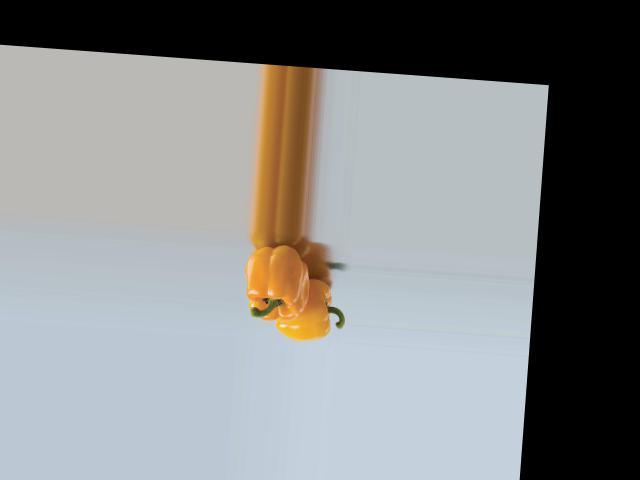bell_pepper: (272, 264, 347, 344)
